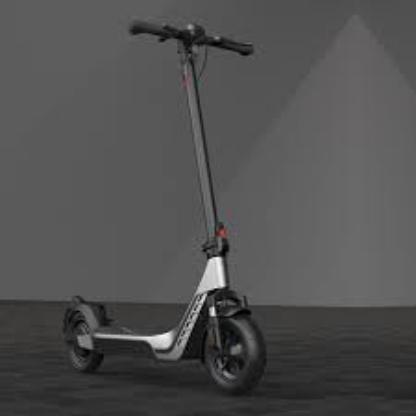bike: (61, 224, 267, 396)
